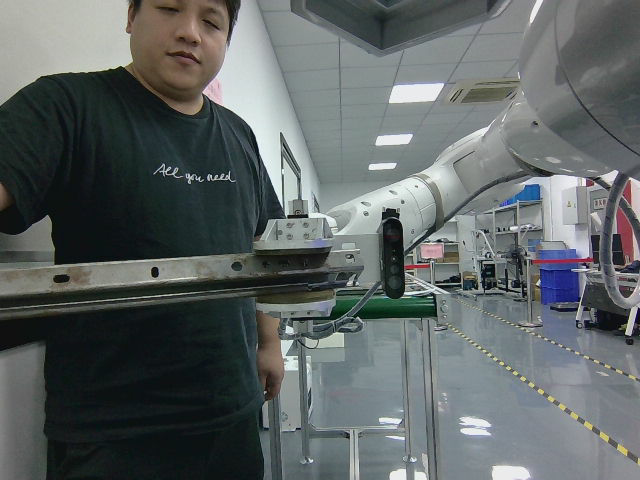right: (5, 246, 365, 311)
